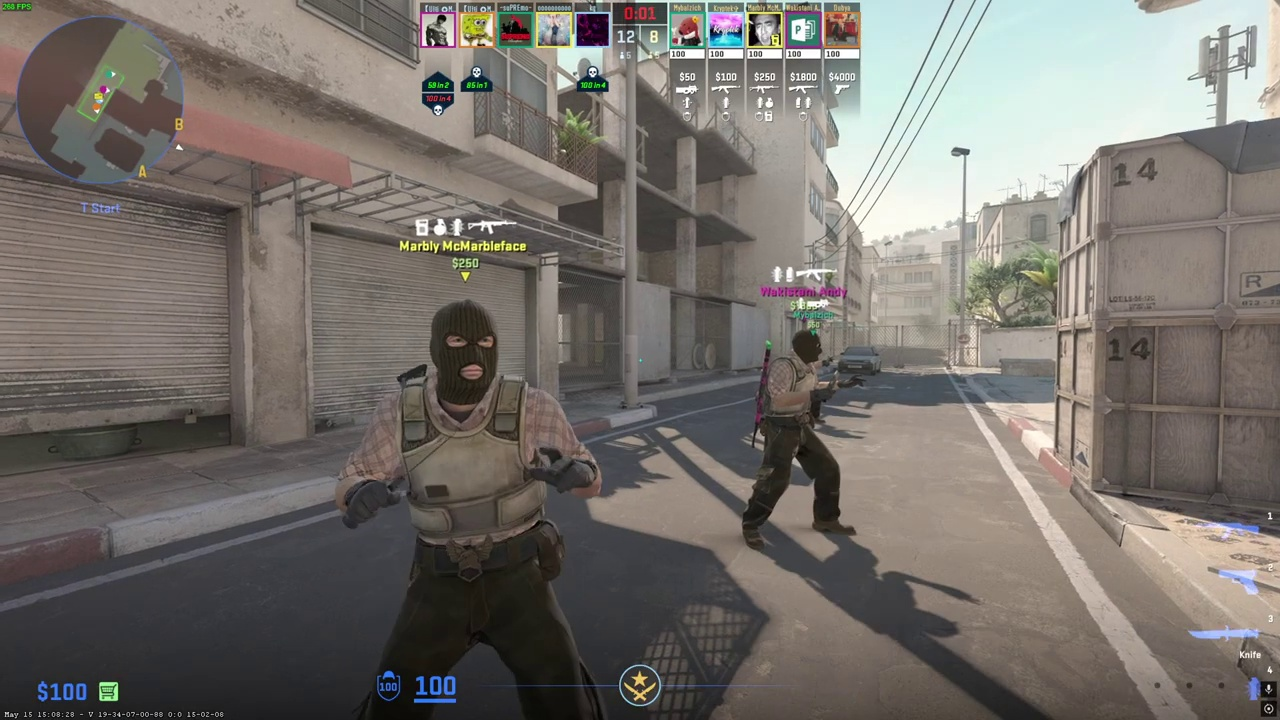Terrorist: (350, 299, 591, 720), (746, 329, 849, 550)
